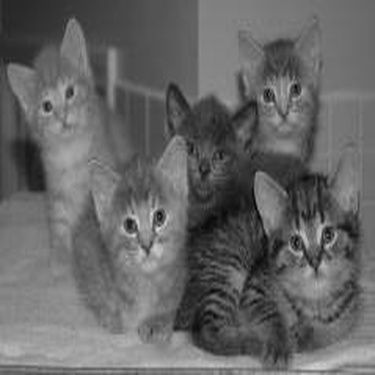cat: (186, 138, 370, 372), (8, 14, 140, 276), (70, 129, 191, 347), (163, 82, 264, 226), (233, 22, 322, 164)
